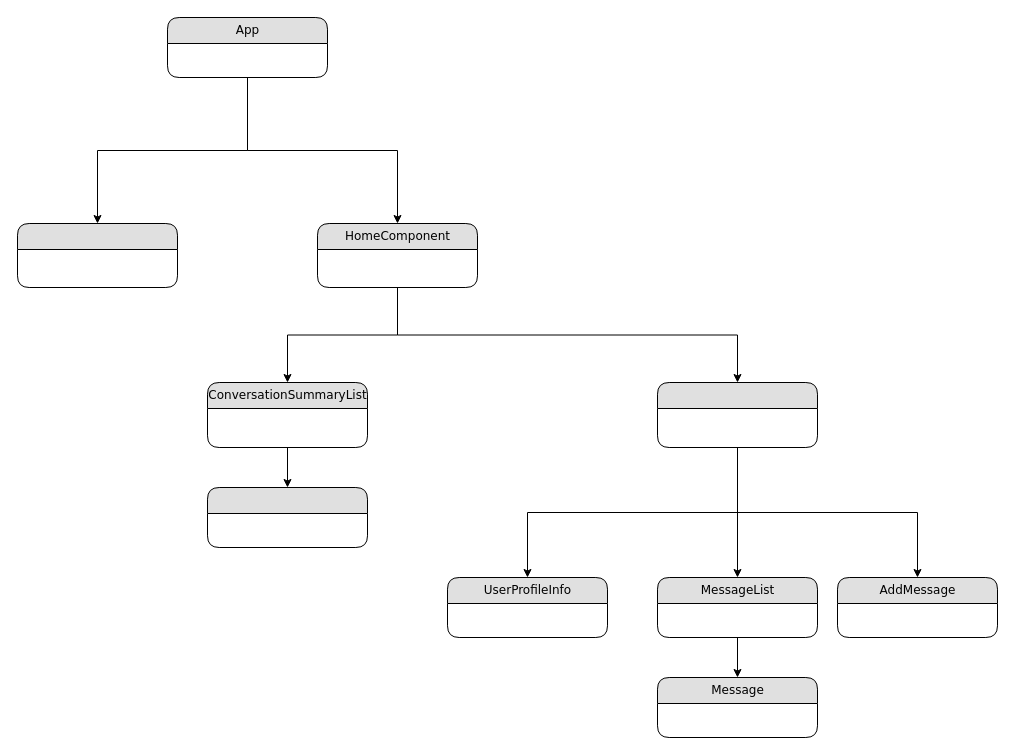
The diagram is 1015 pixels wide and 755 high, and some of its shapes have lost their labels. The box of each missing label's shape, as (x1, y1, x2, y2) in pixels:
Conversation: (656, 382, 818, 448)
ConversationSummary: (206, 486, 368, 548)
LoginComponent: (16, 222, 178, 288)
